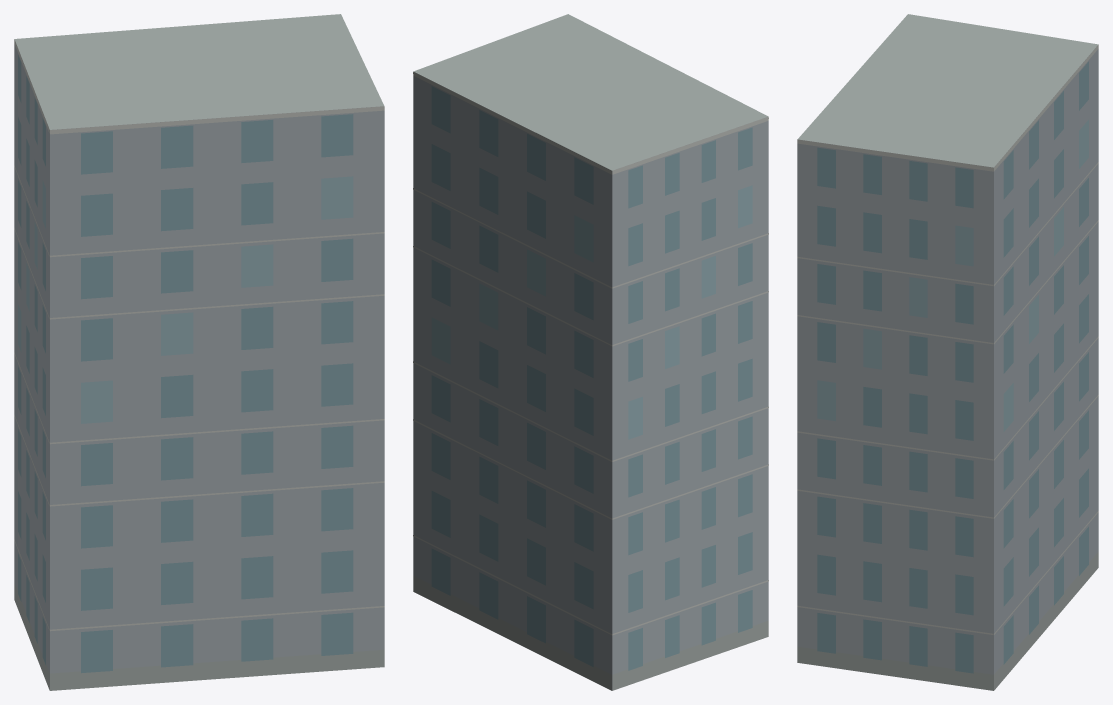
Rendered from survey-upis-32950941.glb.
The picture shows the model from 3 angles, left to right: view 1: azimuth 30°, elevation 25°; view 2: azimuth 150°, elevation 25°; view 3: azimuth 270°, elevation 25°; orthographic projection. The views are drawn at different scales.
Visible parts, largest first — view 1: survey-upis-32950941.tmp; view 2: survey-upis-32950941.tmp; view 3: survey-upis-32950941.tmp.
Part boxes in pixels (x1,y1,x2,y2): survey-upis-32950941.tmp: (14, 14, 384, 690); survey-upis-32950941.tmp: (413, 14, 768, 690); survey-upis-32950941.tmp: (797, 14, 1098, 690).
Size of the model in its own units: 19.18 by 30.45 by 15.9.
